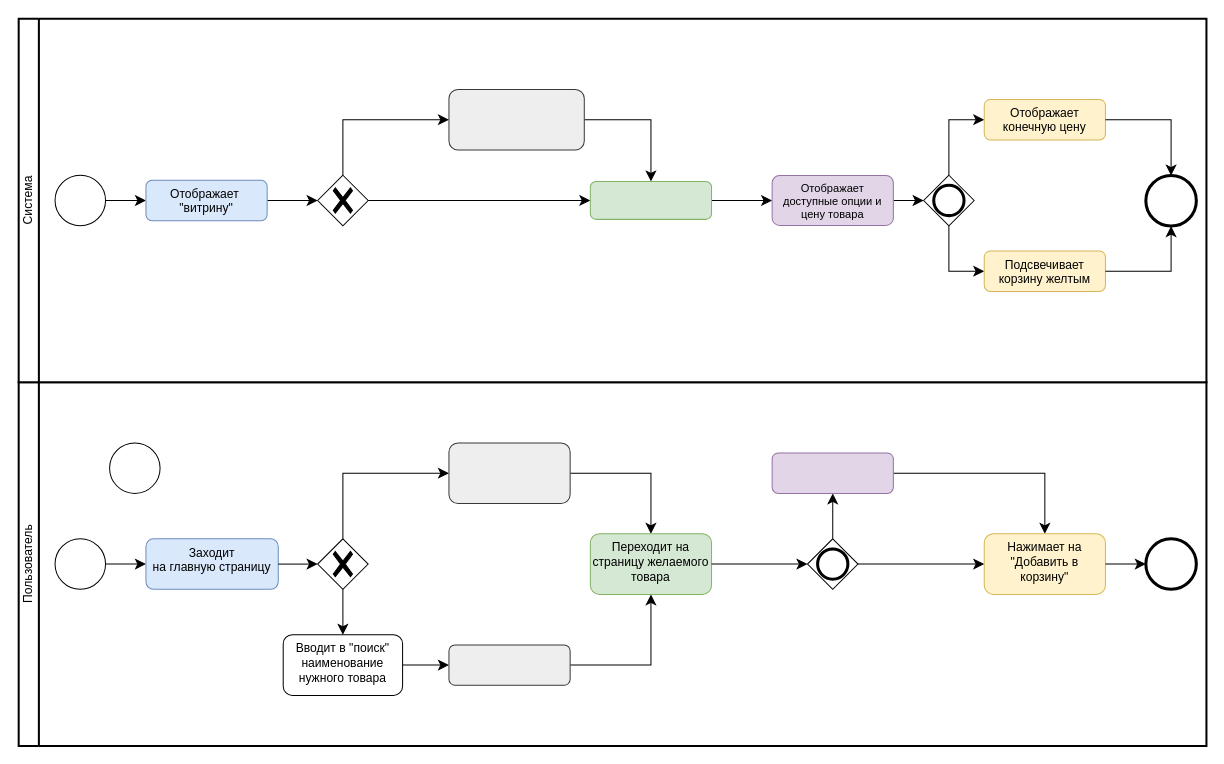
This 1224x764 diagram has some shape labels left out. Here are the shapes that lost their labels. From the top down, the centre of each, then its label:
the point at 516,119: Отображает товары в соответствии с ""поиском"
the point at 650,199: Отображает страницу товара
the point at 509,472: Выбирает продавца и товар на главной странице
the point at 832,472: Выставляет опции товара
the point at 509,664: Выбирает продавца и товар
